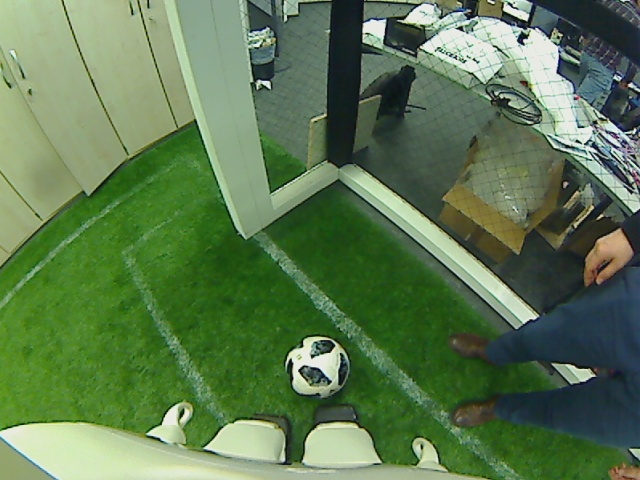ball: (282, 336, 349, 397)
